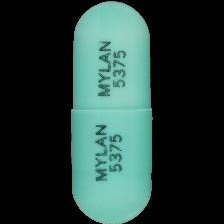67046-132: (0, 0, 224, 224)
